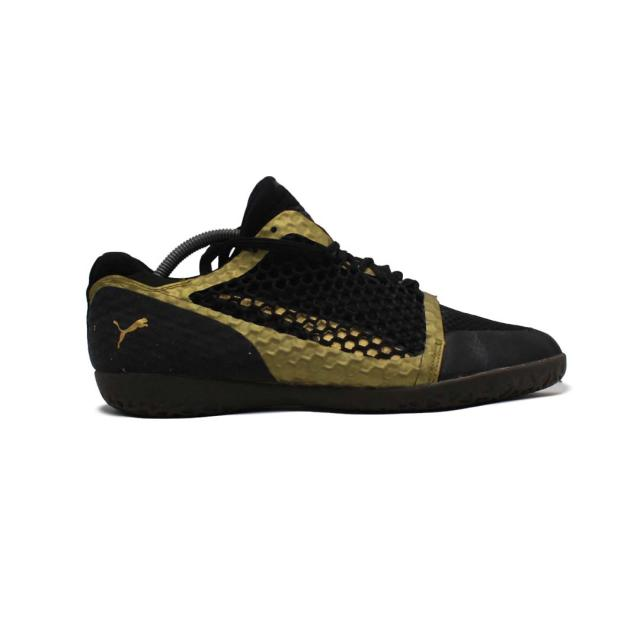heel: (71, 220, 120, 372)
midsole: (92, 366, 570, 418)
uppersole: (123, 203, 585, 384)
